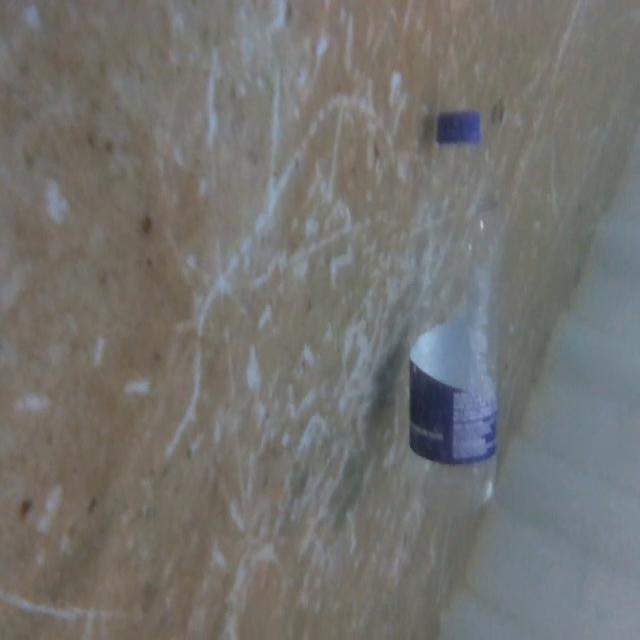plastic bottle: (415, 108, 515, 512)
